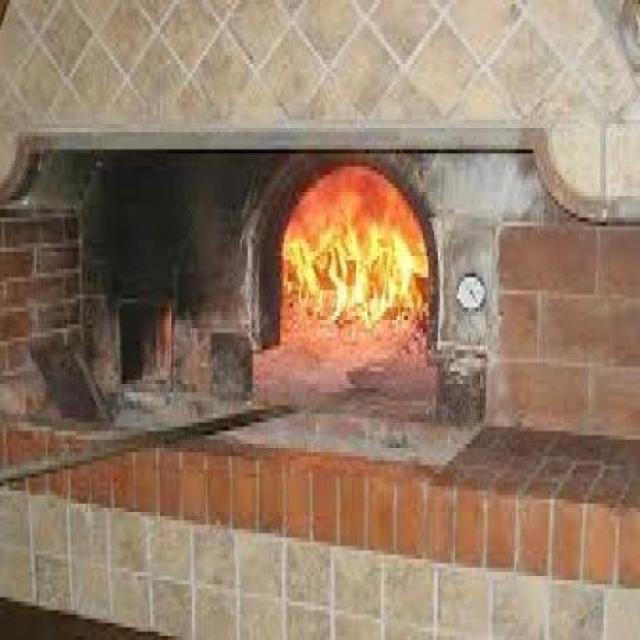Fire: (272, 205, 428, 340)
